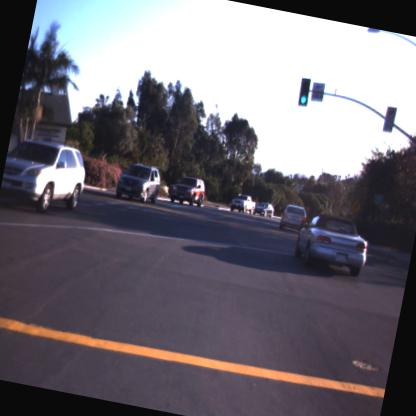trafficlight: (296, 74, 312, 108)
